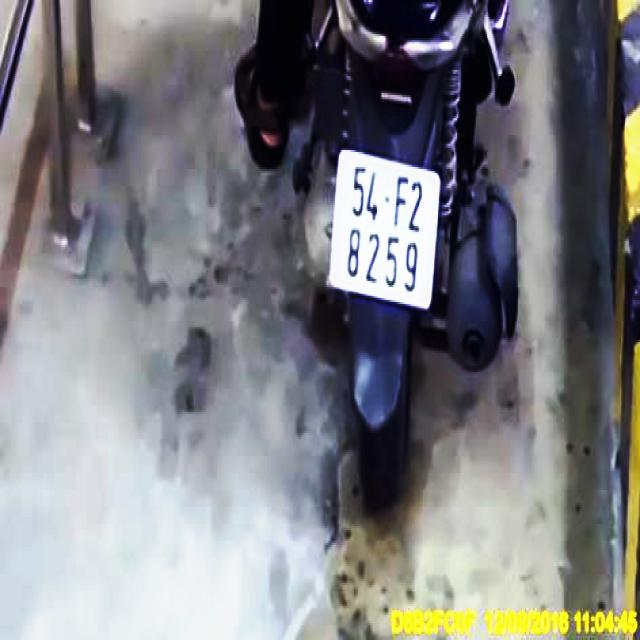license_plate: (329, 153, 443, 313)
